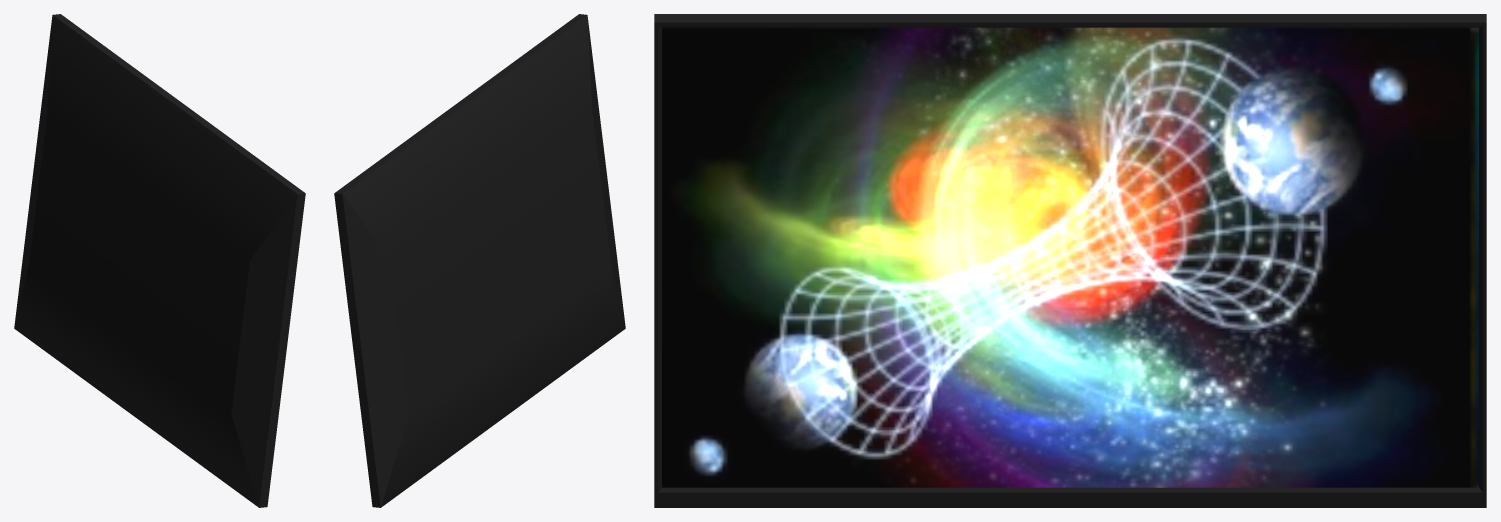
The model's file is DisplayScreenC2.fbx.
3 renders of one model, left to right at view 1: azimuth 30°, elevation 25°; view 2: azimuth 150°, elevation 25°; view 3: azimuth 270°, elevation 25°, orthographic. The views are drawn at different scales.
Parts seen in each view (by area): view 1: DisplayScreenC2; view 2: DisplayScreenC2; view 3: DisplayScreenC2.
Boxes of the visible parts, x1=… form: DisplayScreenC2: x1=14, y1=14, x2=305, y2=507; DisplayScreenC2: x1=334, y1=14, x2=625, y2=507; DisplayScreenC2: x1=654, y1=14, x2=1486, y2=507.
Bounding box in the file's own units: 13.41 × 73.45 × 107.
